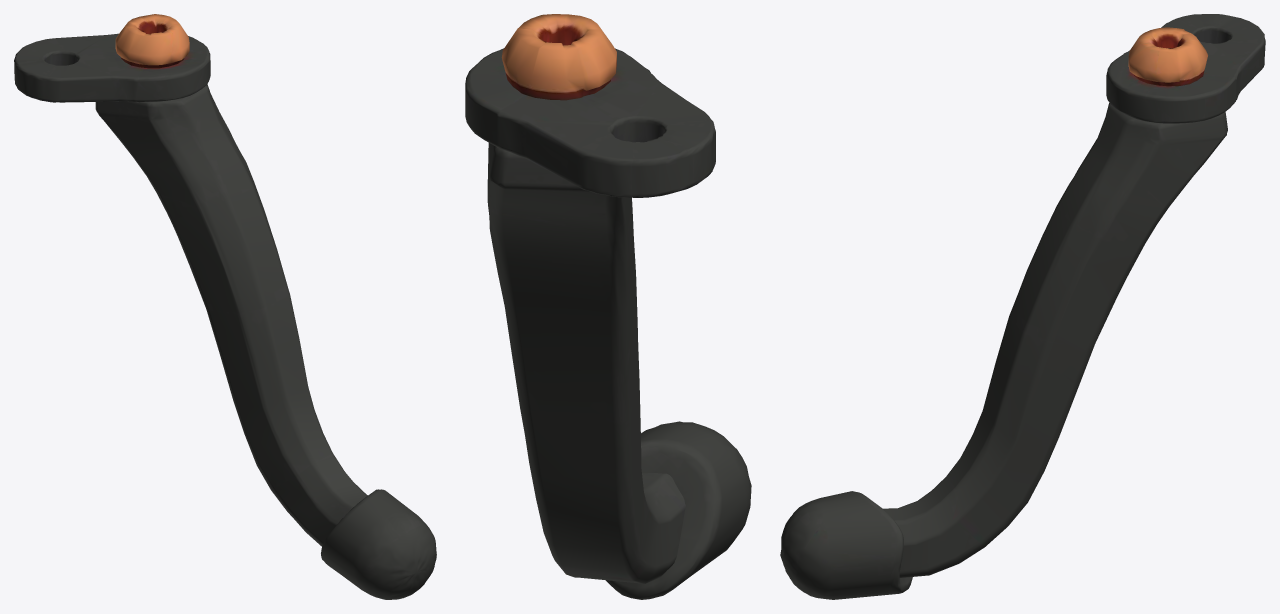
The model's file is drone-skid.glb.
The picture shows the model from 3 angles, left to right: view 1: azimuth 30°, elevation 25°; view 2: azimuth 150°, elevation 25°; view 3: azimuth 270°, elevation 25°; orthographic projection. The views are drawn at different scales.
Visible parts, largest first — view 1: Landing skid; view 2: Landing skid; view 3: Landing skid.
Boxes of the visible parts, x1,y1,x2,y2 form: Landing skid: (14,14,436,599); Landing skid: (465,14,751,599); Landing skid: (780,14,1265,599).
Bounding box in the file's own units: 0.5137 × 0.998 × 0.8574.
1 material, 1 textured.
